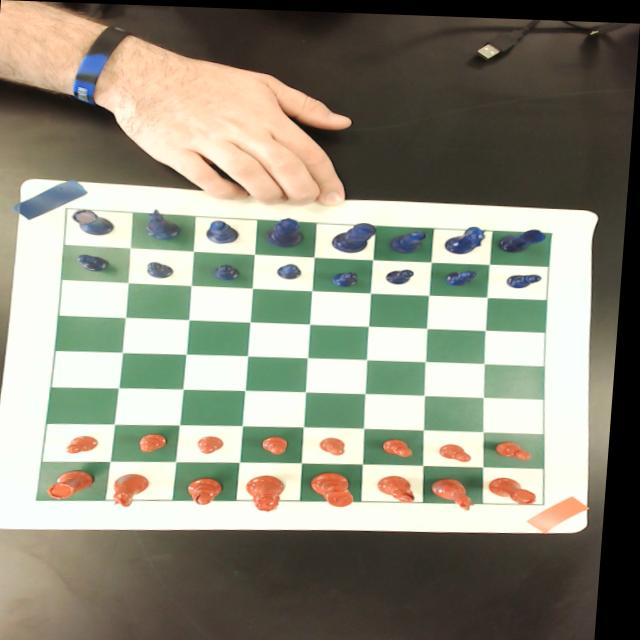B: (208, 217, 244, 242), (391, 227, 428, 251)
K: (333, 220, 380, 251)
N: (145, 208, 186, 239), (446, 222, 489, 251)
P: (448, 264, 484, 284), (509, 268, 546, 285), (79, 253, 112, 272), (387, 264, 418, 282), (148, 260, 179, 277), (215, 262, 246, 279), (334, 268, 362, 285), (279, 261, 306, 277)
Q: (268, 215, 309, 246)
R: (500, 223, 550, 250), (74, 208, 120, 235)
b: (383, 472, 422, 501), (193, 475, 230, 503)
cb: (43, 208, 554, 500)
k: (316, 470, 362, 505)
n: (436, 474, 485, 507), (116, 472, 158, 505)
p: (499, 436, 540, 456), (445, 440, 480, 459), (70, 434, 105, 453), (387, 435, 420, 455), (143, 431, 174, 452), (266, 434, 294, 453), (325, 435, 352, 453), (204, 434, 231, 452)
q: (251, 473, 293, 510)
r: (52, 468, 102, 501), (494, 472, 544, 502)
